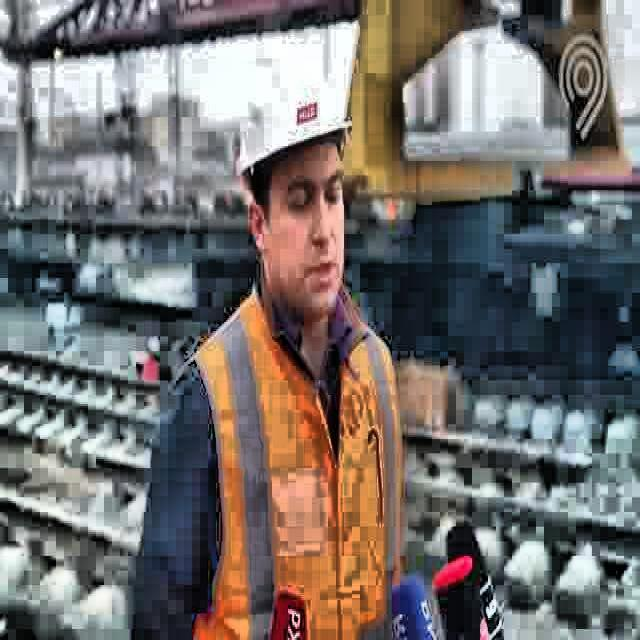safety_helmet: (233, 44, 356, 178)
safety_jacket: (172, 280, 404, 640)
